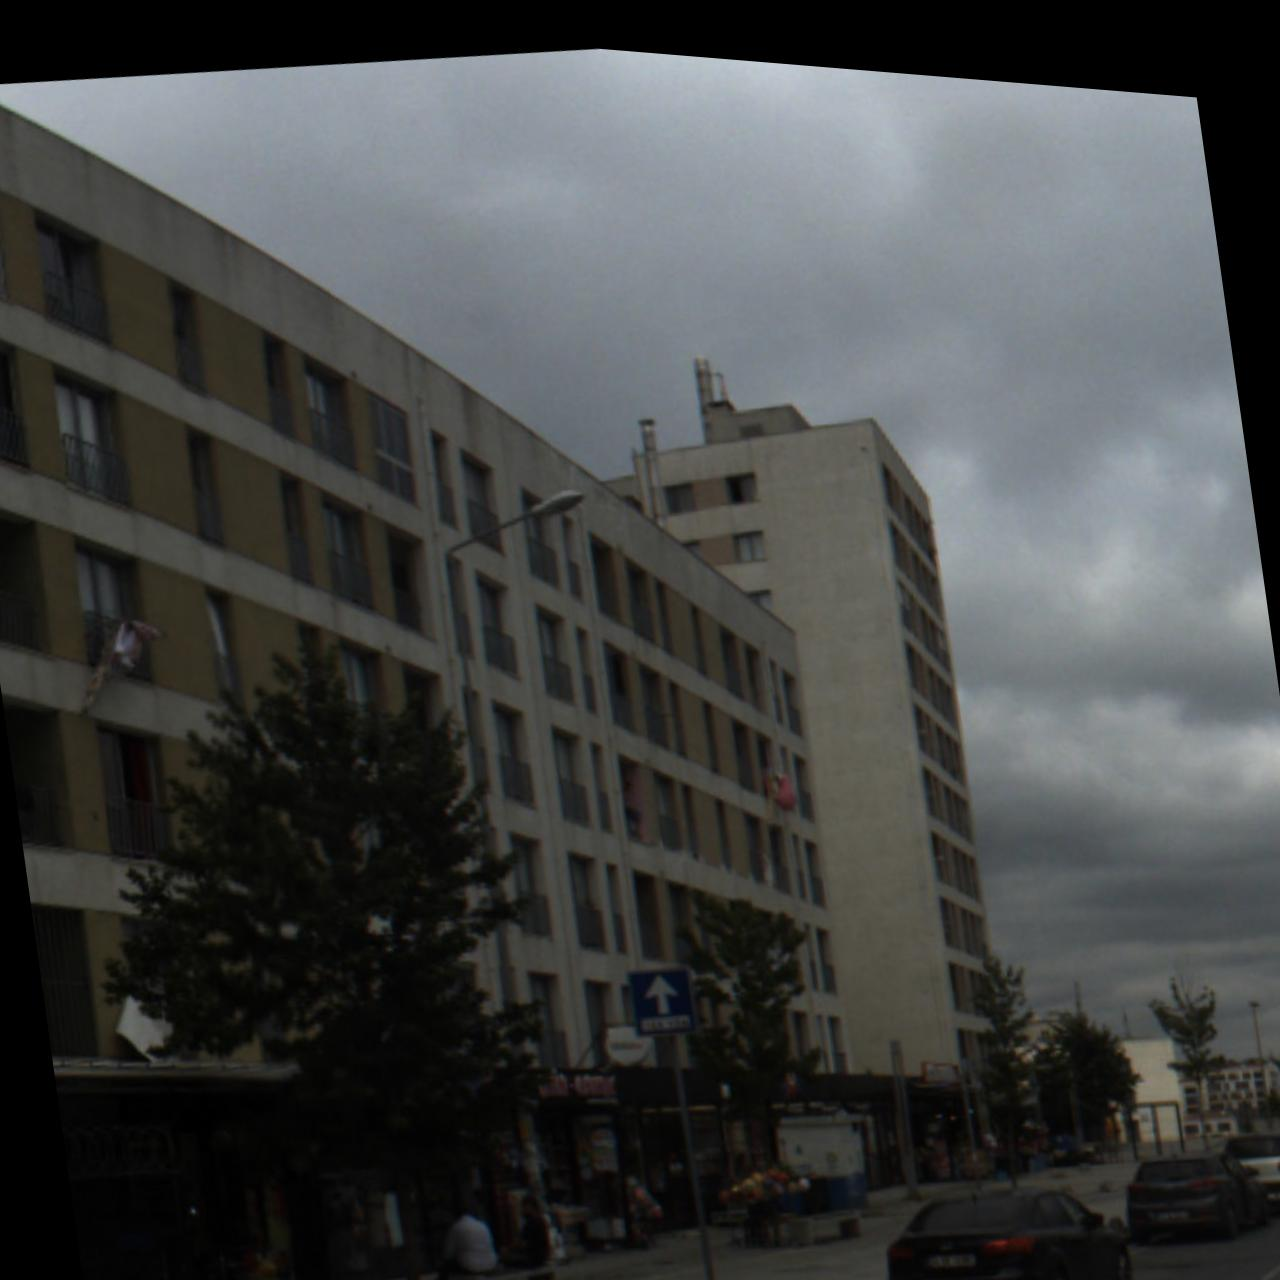SignStore: (531, 1057, 622, 1102), (921, 1046, 961, 1069)
